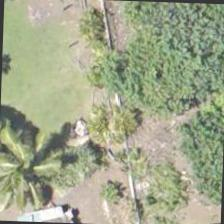Kelapa_Sawit: (0, 123, 74, 217)
